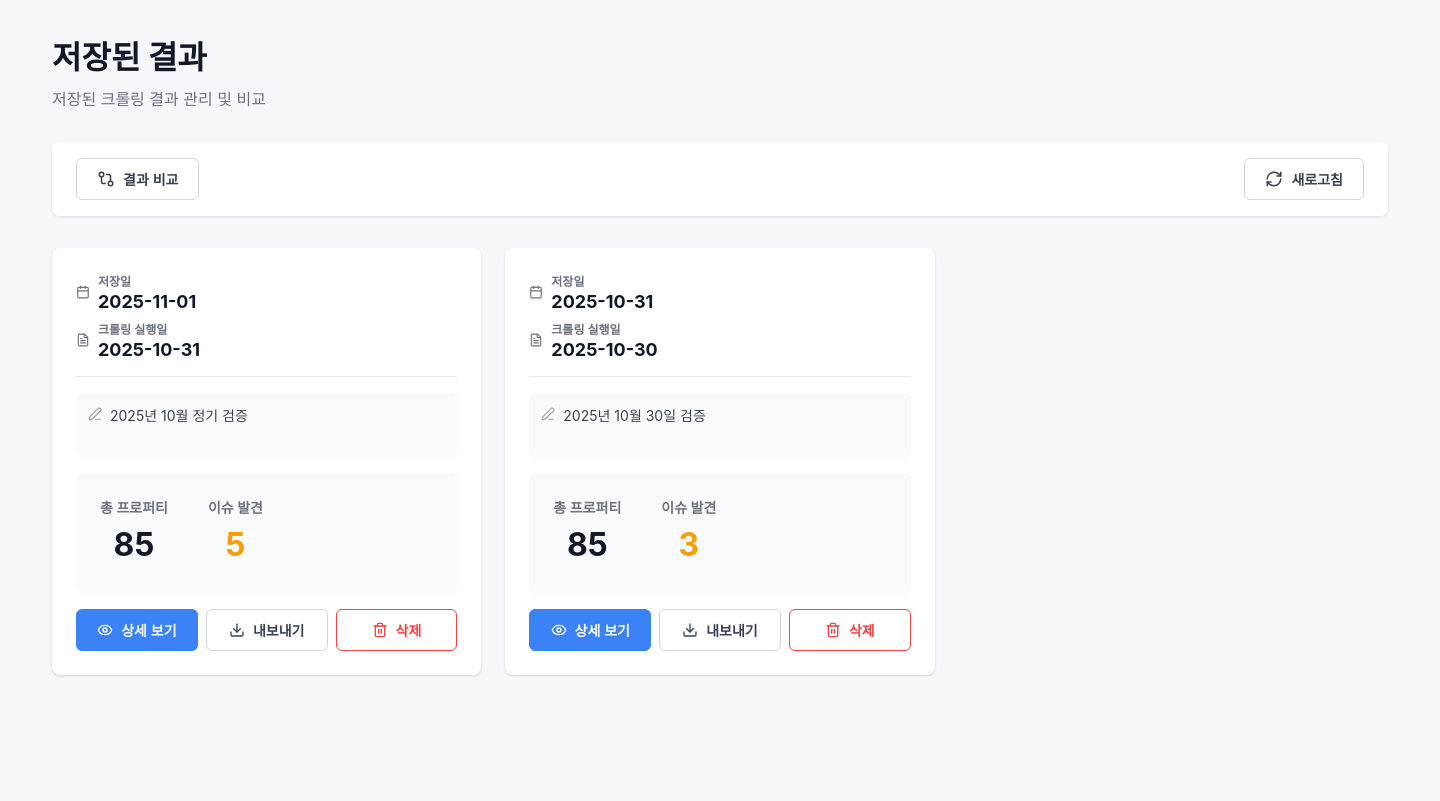
Test: SavedResults Page › Detail View › should close detail view when close button clicked
Expected: the text "2025년 10월 정기 검증" is shown, x1=110 y1=407 x2=248 y2=424
Click the button "상세 보기" below "2025년 10월 정기 검증".
click(137, 630)  # box x1=76 y1=609 x2=198 y2=651
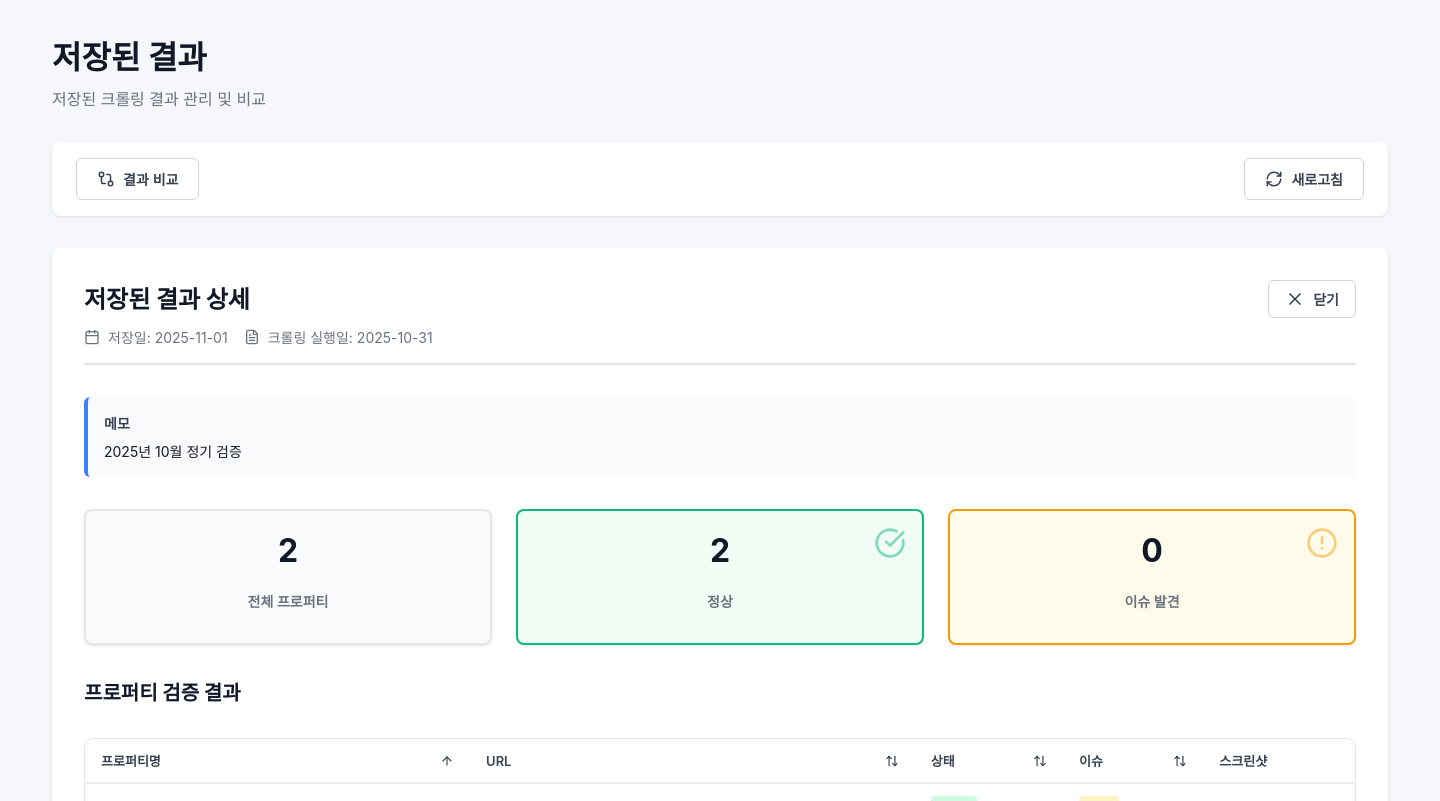
Expected: the heading "저장된 결과 상세" is shown, x1=84 y1=285 x2=250 y2=314
Click the button "닫기".
click(1312, 299)  # box x1=1268 y1=280 x2=1356 y2=318
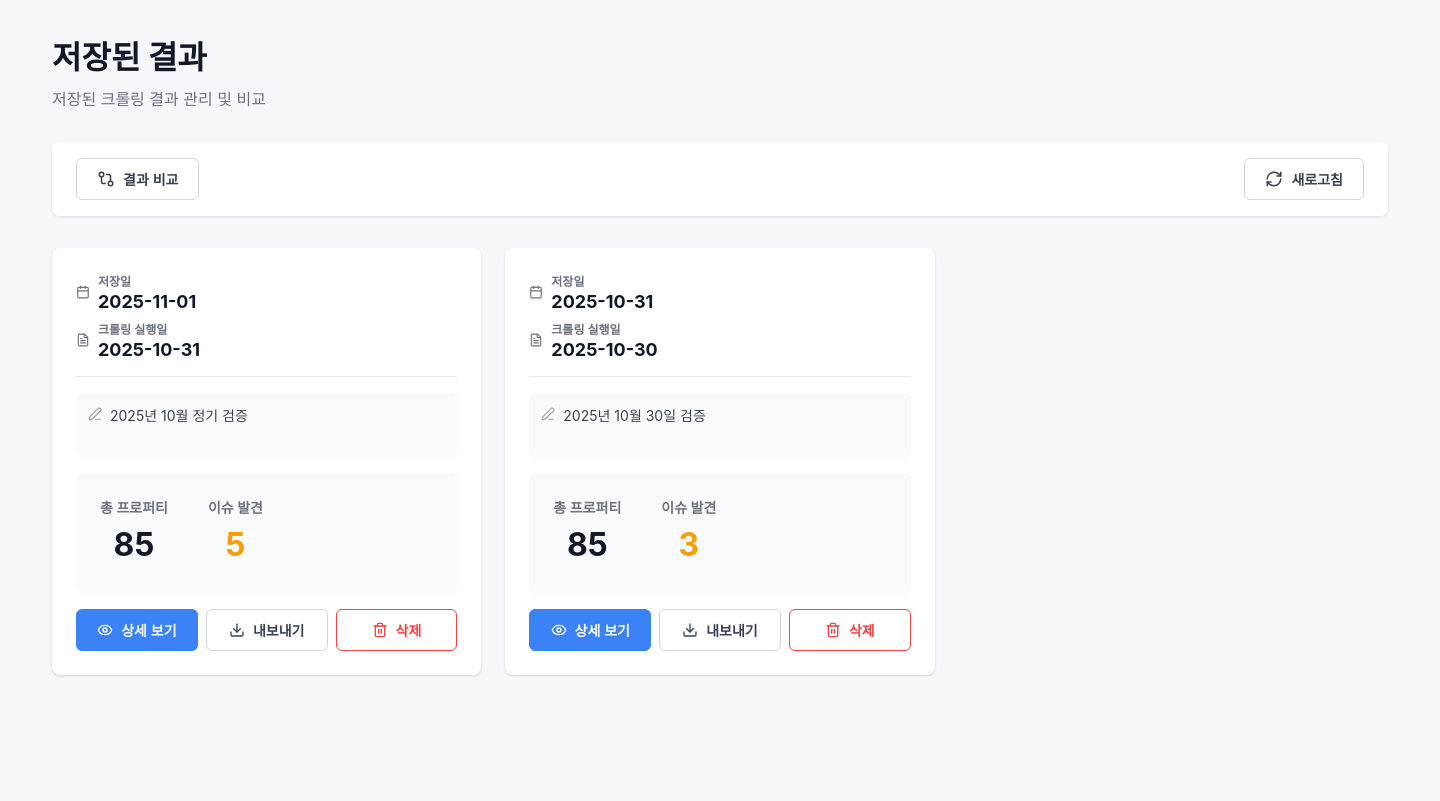
Expected: the heading "저장된 결과 상세" is gone
